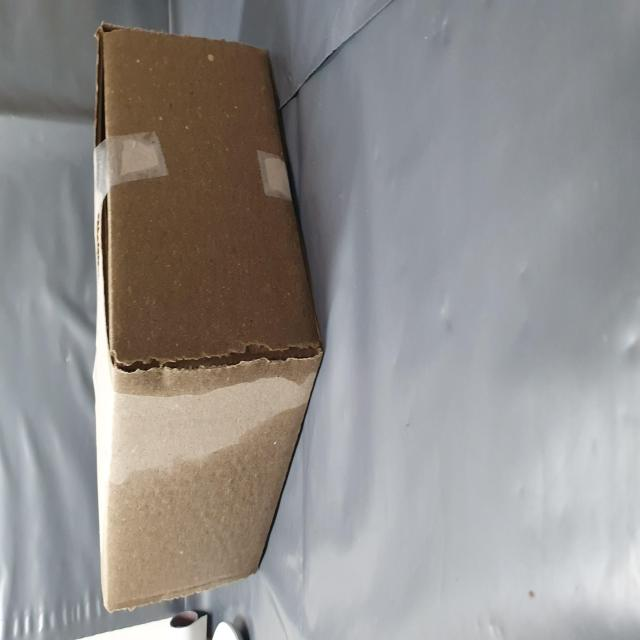wet: (19, 151, 342, 563)
